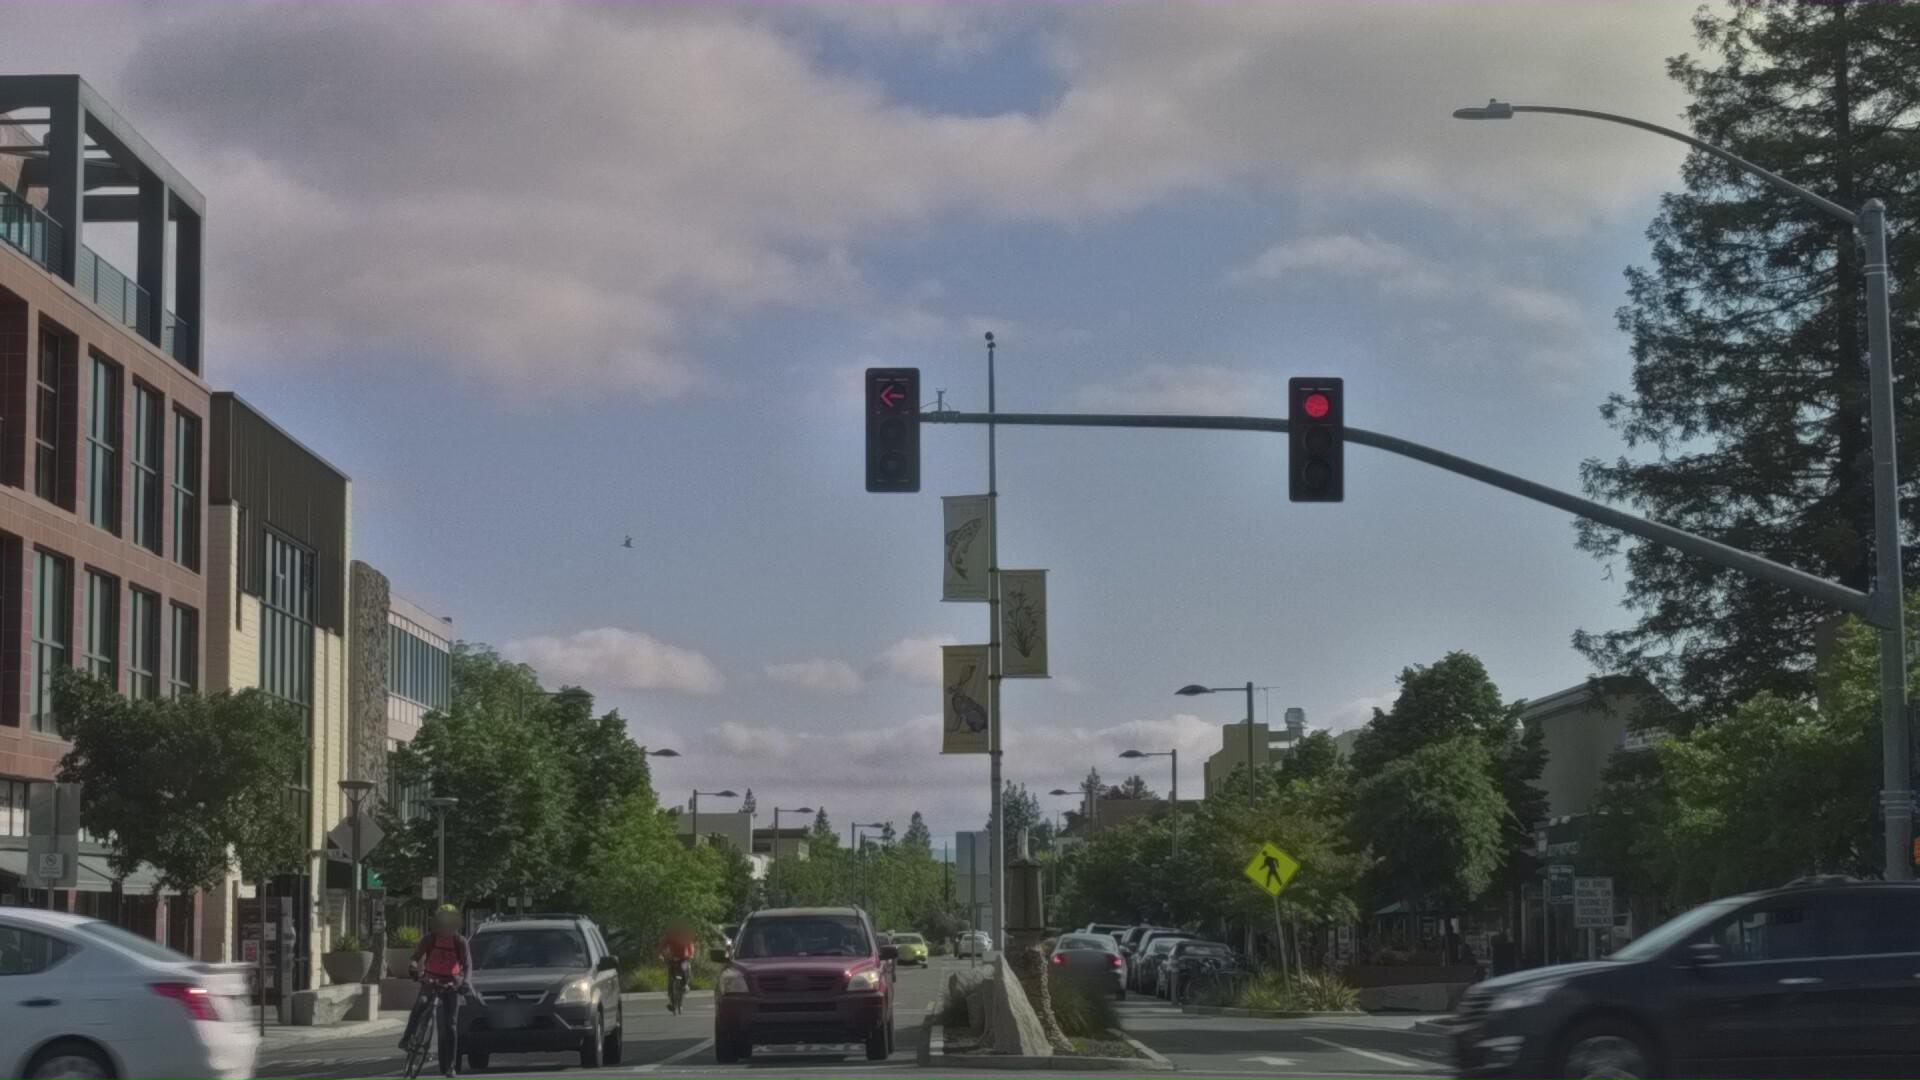bicycle: (396, 967, 493, 1080), (642, 985, 696, 1080)
car: (1320, 957, 1920, 1080), (421, 972, 641, 1080), (0, 969, 208, 1080), (709, 963, 891, 1080), (1054, 1001, 1139, 1080), (1164, 1013, 1259, 1080)
